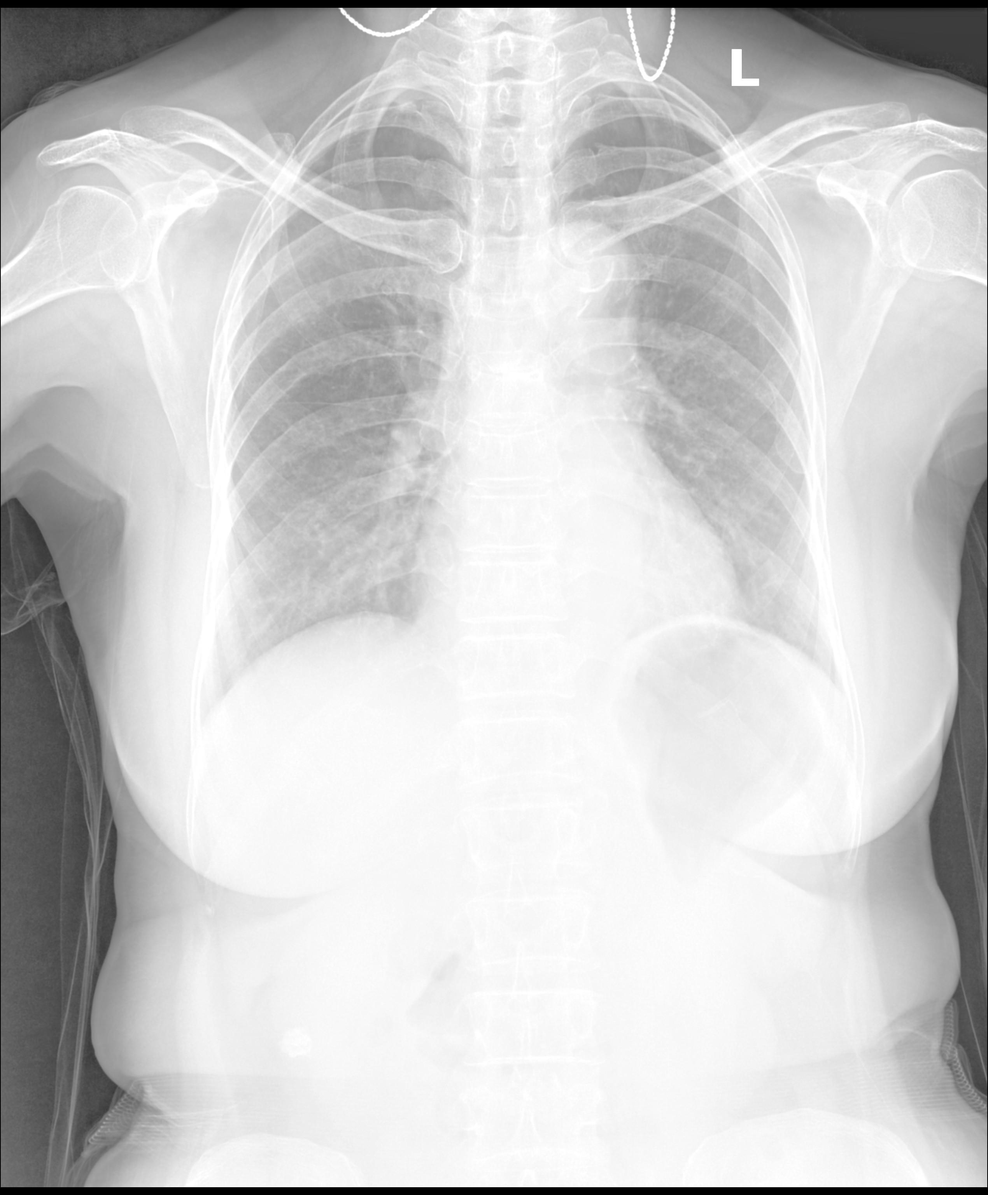Aortic enlargement: (544, 218, 639, 349)
Cardiomegaly: (407, 545, 745, 650)
